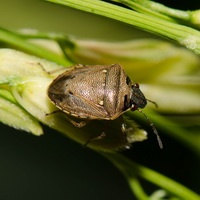insect: (48, 64, 146, 119)
